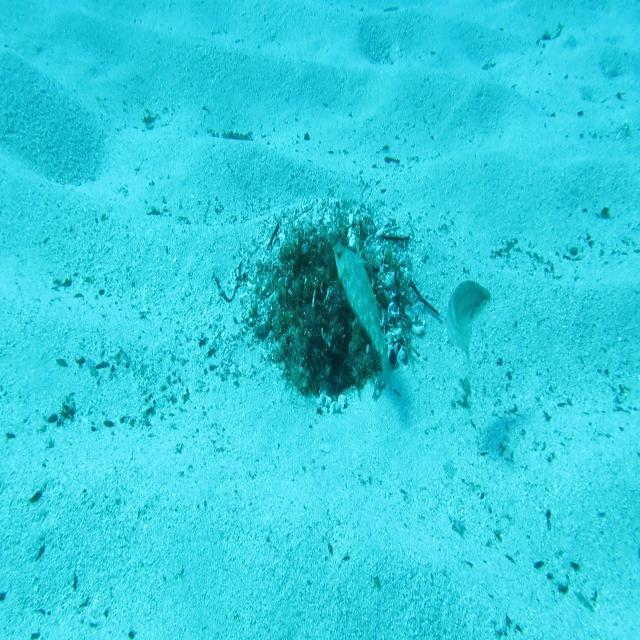ROLL: (332, 239, 396, 394)
core_nest: (311, 238, 370, 291)
female: (444, 277, 494, 373)
nest: (223, 189, 437, 431)
